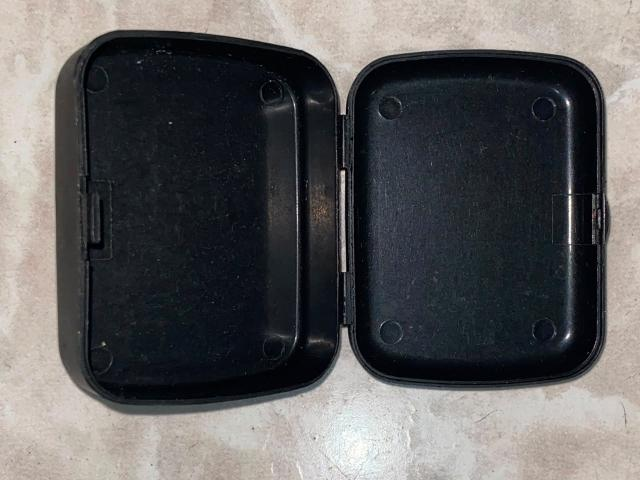HDPE: (60, 28, 610, 407)
